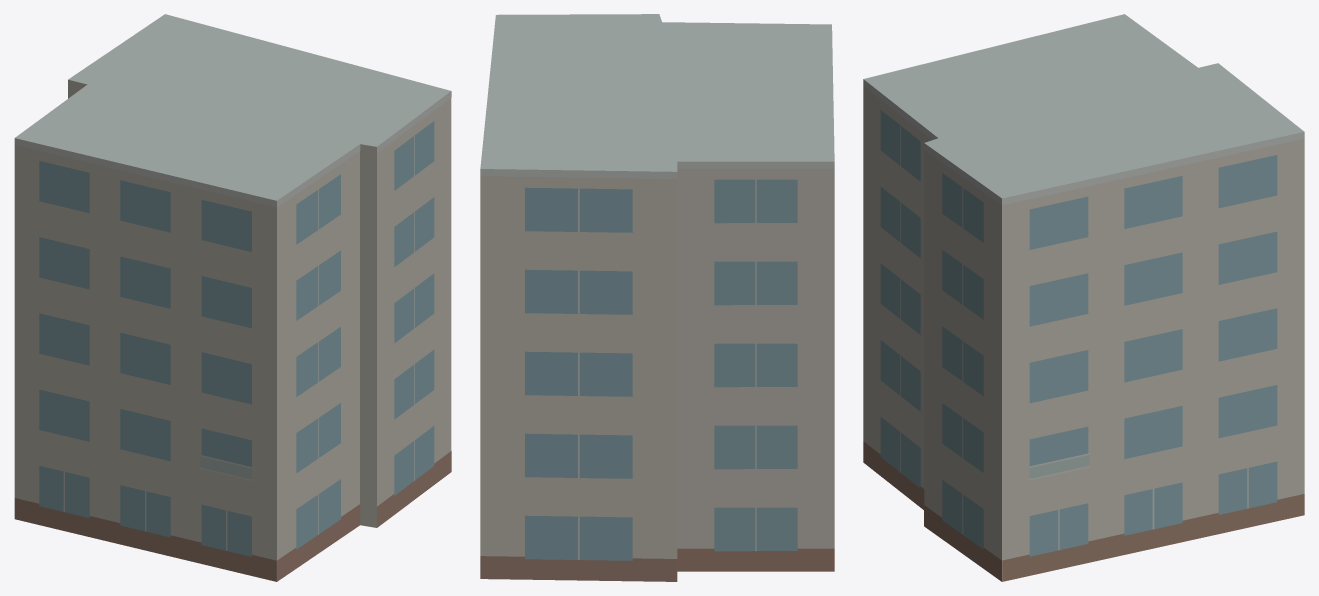
File: survey-upis-32881013.glb
The picture shows the model from 3 angles, left to right: view 1: azimuth 30°, elevation 25°; view 2: azimuth 150°, elevation 25°; view 3: azimuth 270°, elevation 25°; orthographic projection. The views are drawn at different scales.
Parts seen in each view (by area): view 1: survey-upis-32881013.tmp; view 2: survey-upis-32881013.tmp; view 3: survey-upis-32881013.tmp.
Boxes of the visible parts, x1=… form: survey-upis-32881013.tmp: x1=14, y1=14, x2=451, y2=581; survey-upis-32881013.tmp: x1=480, y1=14, x2=834, y2=581; survey-upis-32881013.tmp: x1=863, y1=14, x2=1304, y2=581.
Size of the model in its own units: 14.25 by 13.8 by 14.41.
